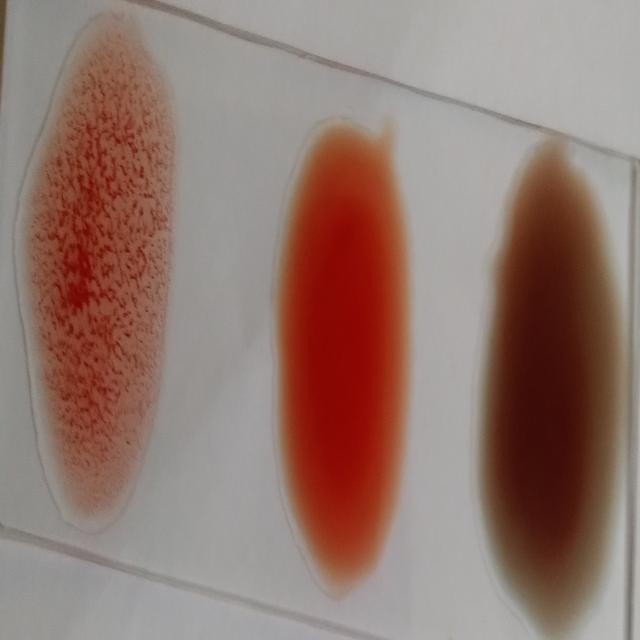D: (16, 17, 174, 523)
